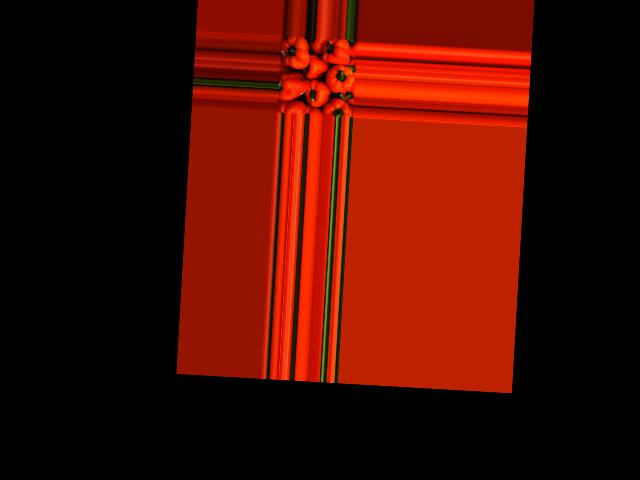bell_pepper: (275, 99, 307, 114)
